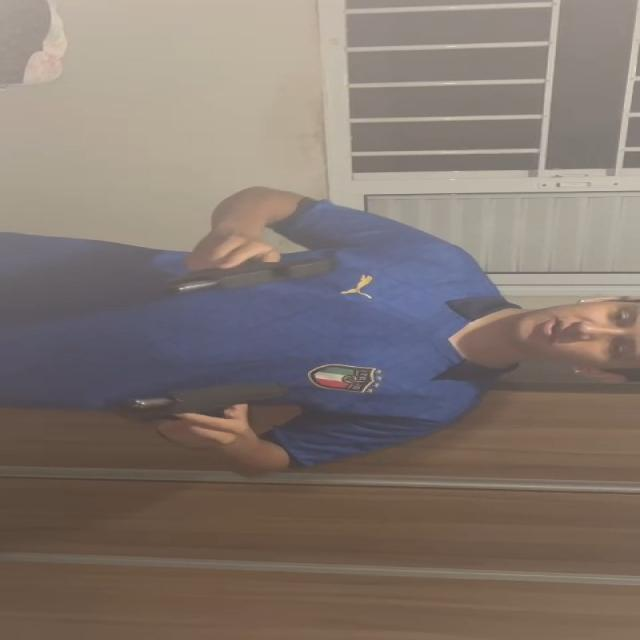gun: (123, 376, 285, 422), (176, 255, 336, 292)
